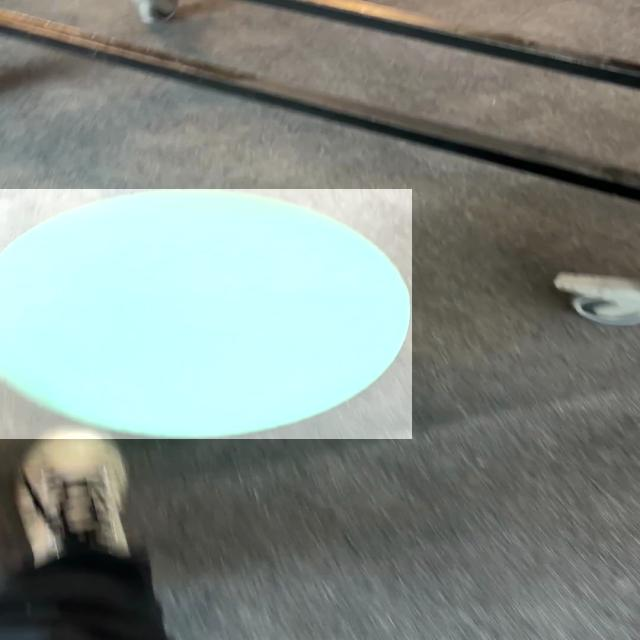Algae: (0, 189, 412, 439)
